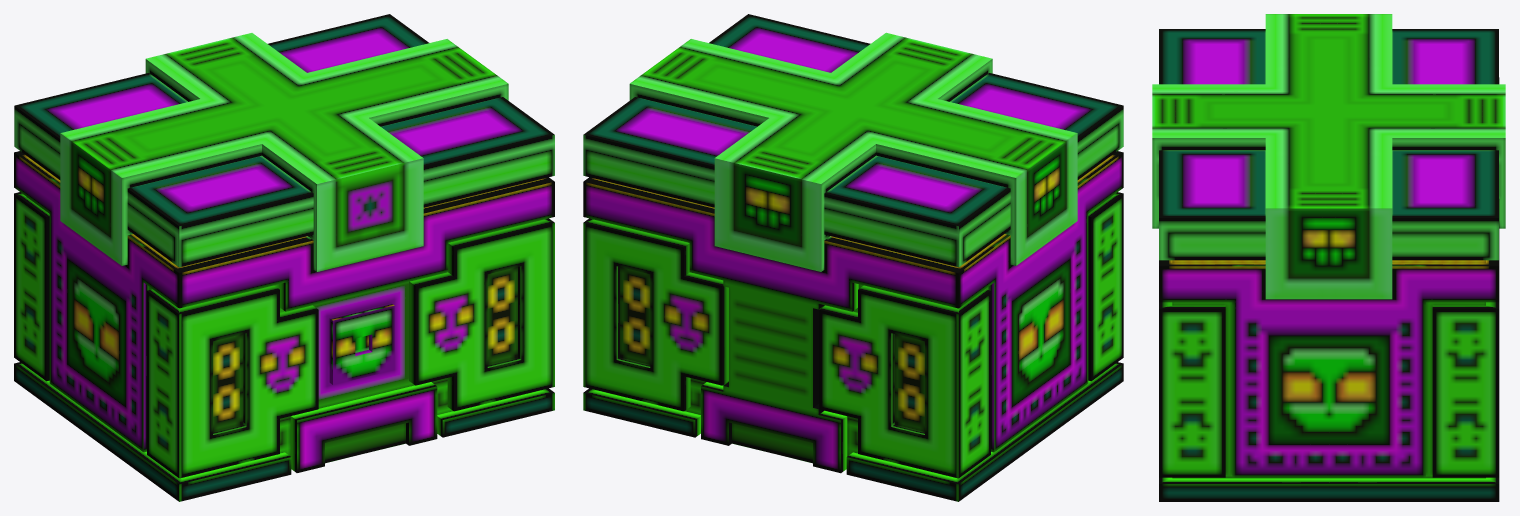
The model's file is alien_lottery_chest_1 #317079.fbx.
The picture shows the model from 3 angles, left to right: view 1: azimuth 30°, elevation 25°; view 2: azimuth 150°, elevation 25°; view 3: azimuth 270°, elevation 25°; orthographic projection. The views are drawn at different scales.
Parts seen in each view (by area): view 1: alien_lottery_chest_1, lid_event_chest_1_mesh; view 2: alien_lottery_chest_1, lid_event_chest_1_mesh; view 3: lid_event_chest_1_mesh, alien_lottery_chest_1.
Part boxes in pixels (x1=…): alien_lottery_chest_1: x1=14, y1=151, x2=554, y2=501; lid_event_chest_1_mesh: x1=14, y1=14, x2=554, y2=271; alien_lottery_chest_1: x1=583, y1=151, x2=1123, y2=501; lid_event_chest_1_mesh: x1=583, y1=14, x2=1123, y2=271; lid_event_chest_1_mesh: x1=1152, y1=14, x2=1505, y2=299; alien_lottery_chest_1: x1=1159, y1=77, x2=1499, y2=501.
Bounding box in the file's own units: 3.63 × 2.58 × 2.79.
1 material, 1 textured.
